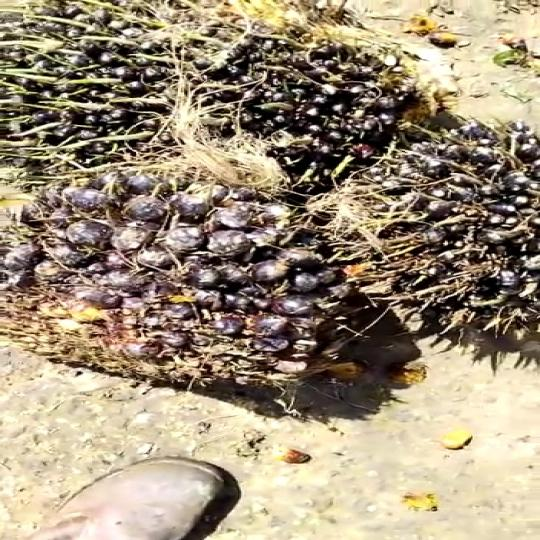mentah: (0, 157, 336, 384), (327, 126, 540, 349), (160, 0, 422, 162), (0, 0, 213, 171)
